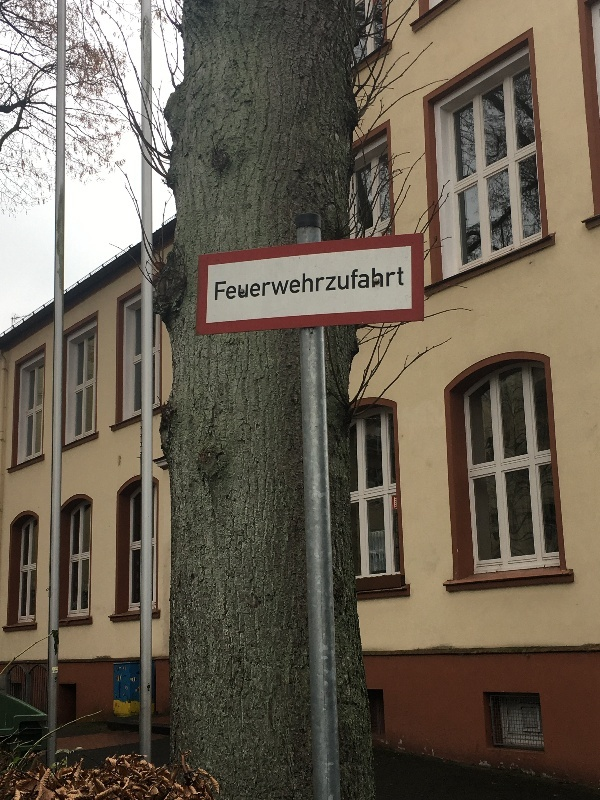text: (225, 263, 240, 301), (241, 263, 256, 301), (257, 263, 272, 301), (273, 263, 288, 301), (289, 263, 304, 301), (305, 263, 320, 301), (321, 263, 336, 301), (337, 263, 352, 301), (353, 263, 368, 301), (369, 263, 384, 301), (385, 263, 400, 301), (216, 263, 224, 301), (401, 263, 404, 301)
